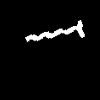half_double_crochet: (25, 20, 83, 41)
